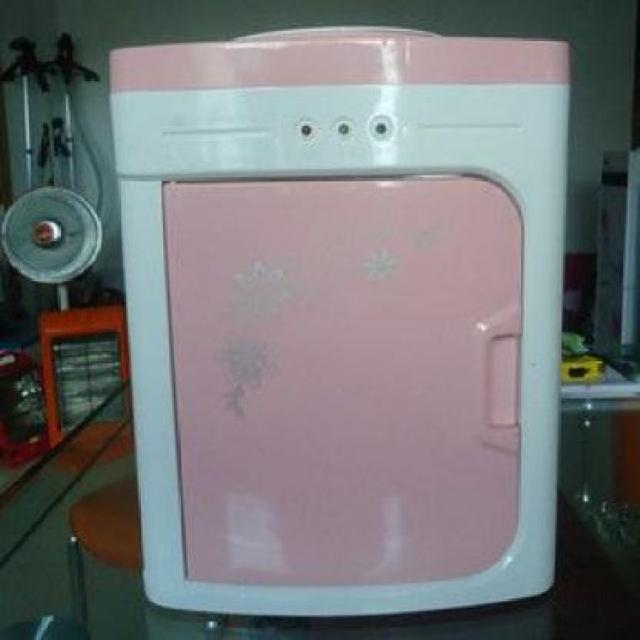cooler: (106, 23, 581, 619)
